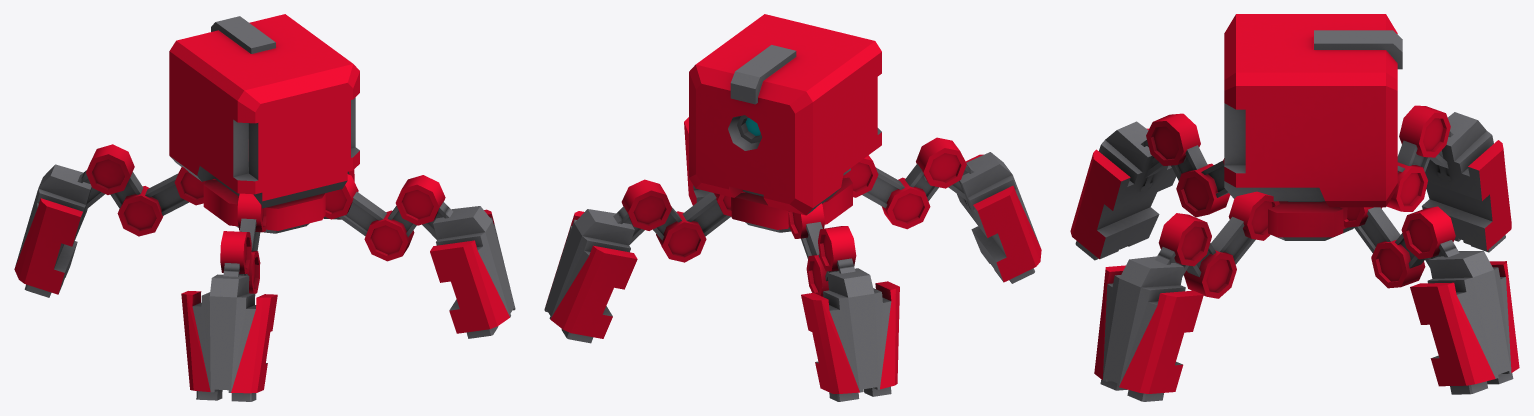
The model's file is Monster1_Idle1.obj.
The picture shows the model from 3 angles, left to right: view 1: azimuth 30°, elevation 25°; view 2: azimuth 150°, elevation 25°; view 3: azimuth 270°, elevation 25°; orthographic projection. The views are drawn at different scales.
Visible parts, largest first — view 1: Box006, Object021, Object017, Object025, Object020, Object028, Object027, Object018, Object019, Object026, Object024, Object022; view 2: Box006, Object025, Object013, Object021, Object016, Object024, Object023, Object015, Object022, Object028, Object014, Object026 (+2 smaller); view 3: Box006, Object017, Object013, Object021, Object025, Object018, Object016, Object020, Object023, Object024, Object028, Object015 (+4 smaller).
Boxes of the visible parts, bbox=[...] form: Box006: bbox=[169, 14, 359, 233]; Object021: bbox=[181, 274, 277, 401]; Object017: bbox=[430, 206, 515, 338]; Object025: bbox=[14, 164, 91, 297]; Object020: bbox=[395, 175, 453, 239]; Object028: bbox=[77, 144, 134, 210]; Object027: bbox=[110, 172, 163, 236]; Object018: bbox=[324, 174, 386, 236]; Object019: bbox=[364, 206, 416, 261]; Object026: bbox=[145, 167, 215, 215]; Object024: bbox=[220, 231, 251, 276]; Object022: bbox=[237, 193, 266, 251]; Box006: bbox=[689, 14, 881, 232]; Object025: bbox=[801, 268, 899, 401]; Object013: bbox=[544, 209, 637, 343]; Object021: bbox=[957, 152, 1041, 283]; Object016: bbox=[613, 179, 671, 244]; Object024: bbox=[916, 137, 973, 200]; Object023: bbox=[881, 163, 938, 229]; Object015: bbox=[653, 206, 706, 262]; Object022: bbox=[843, 155, 904, 208]; Object028: bbox=[818, 226, 856, 273]; Object014: bbox=[682, 191, 745, 236]; Object026: bbox=[788, 203, 824, 258]; Box006: bbox=[1224, 14, 1402, 240]; Object017: bbox=[1094, 256, 1203, 401]; Object013: bbox=[1410, 251, 1519, 394]; Object021: bbox=[1070, 121, 1176, 260]; Object025: bbox=[1422, 112, 1511, 252]; Object018: bbox=[1211, 191, 1279, 264]; Object016: bbox=[1401, 206, 1459, 267]; Object020: bbox=[1155, 213, 1211, 276]; Object023: bbox=[1171, 145, 1230, 217]; Object024: bbox=[1141, 113, 1200, 177]; Object028: bbox=[1399, 105, 1453, 168]; Object015: bbox=[1371, 233, 1425, 288].
Bounding box in the file's own units: 150 × 107 × 153.
